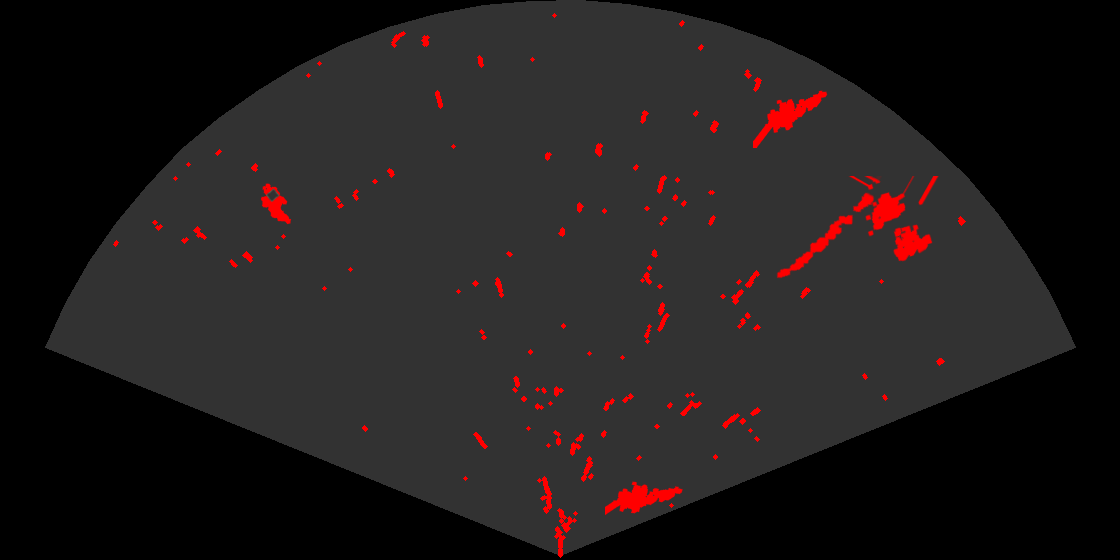AUV: (259, 182, 293, 226)
cage: (847, 176, 940, 263)
chain: (775, 191, 876, 280)
frogman: (753, 89, 829, 148), (605, 480, 684, 517)
